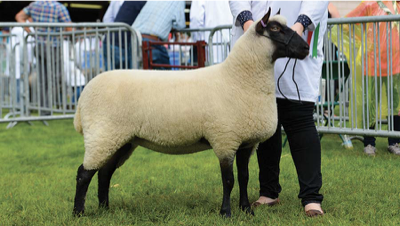koyun: (73, 11, 310, 218)
